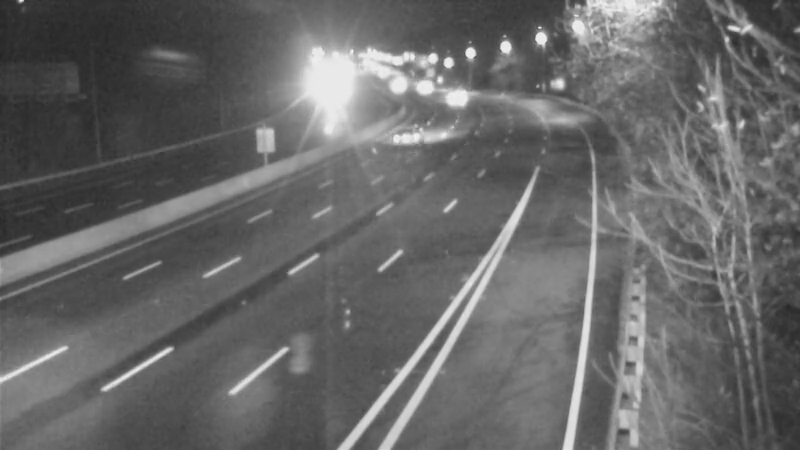vehicle: (398, 61, 448, 111), (428, 72, 478, 122), (382, 110, 432, 160), (301, 69, 351, 119)
